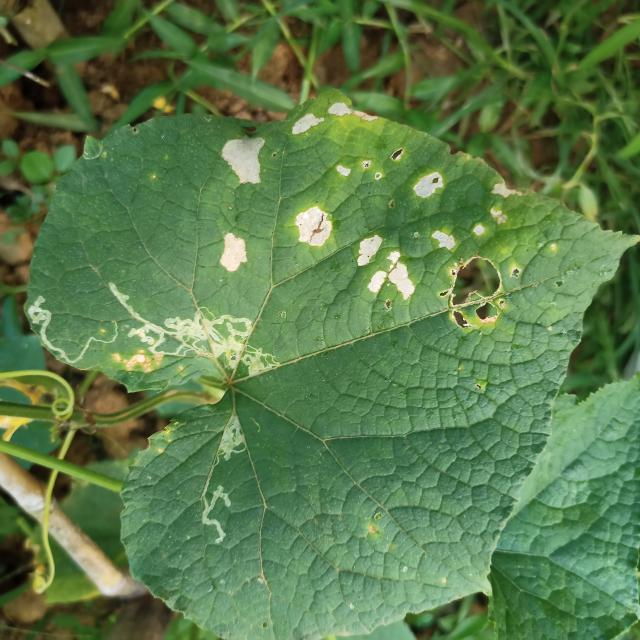disease_cucumber: (290, 97, 568, 328), (214, 130, 273, 283)
